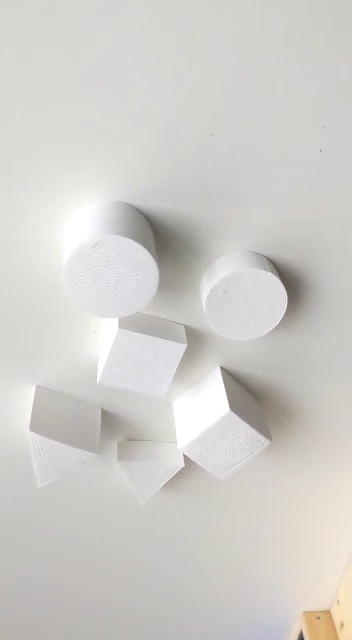Clyinder_short: (197, 248, 290, 344)
Cube: (165, 365, 276, 481)
Cube_short: (93, 306, 191, 404)
Cylinder: (60, 200, 164, 319)
Triangle: (23, 383, 102, 492)
Triangle_short: (115, 433, 189, 505)
